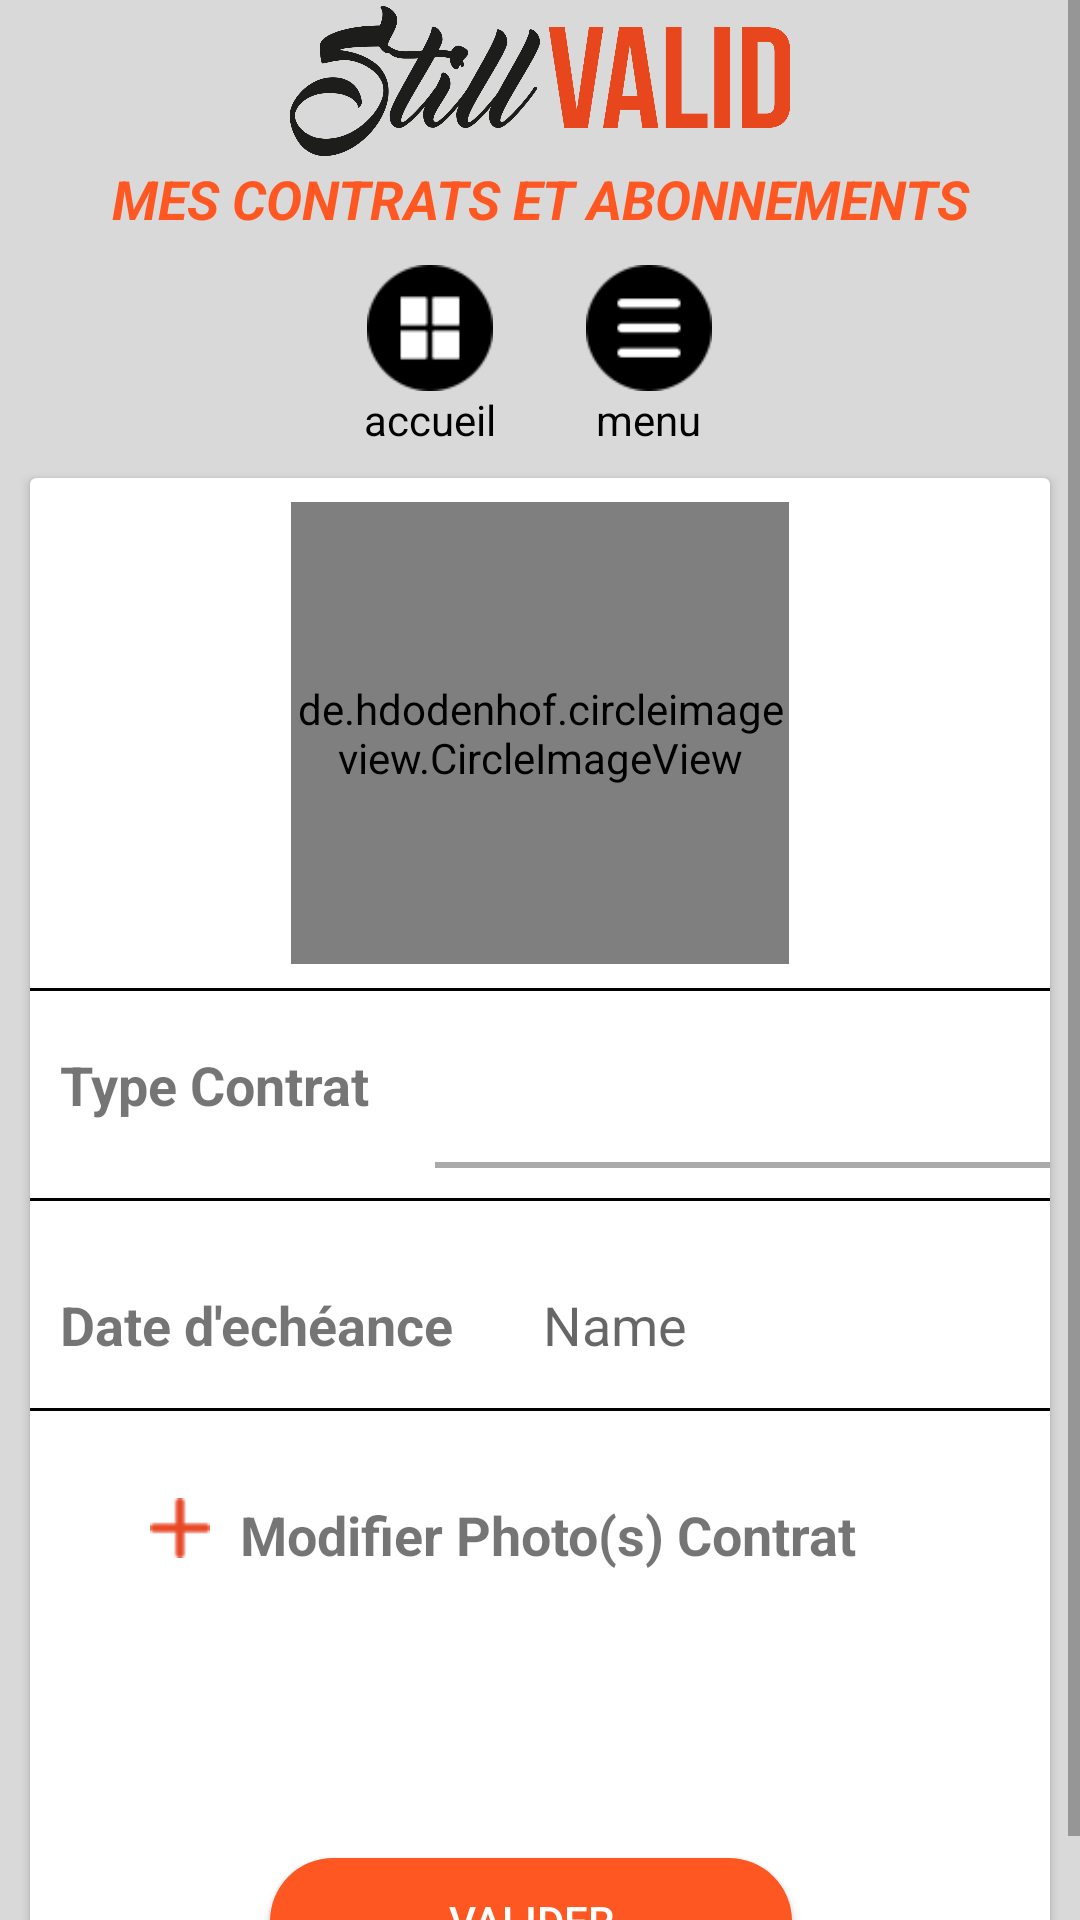

Icon bounding boxes for this 1080×1920 phone screenshot, format (x1=x1, y1=y1, x2=x2, y2=y2):
plus: (x1=150, y1=1498, x2=210, y2=1558)
